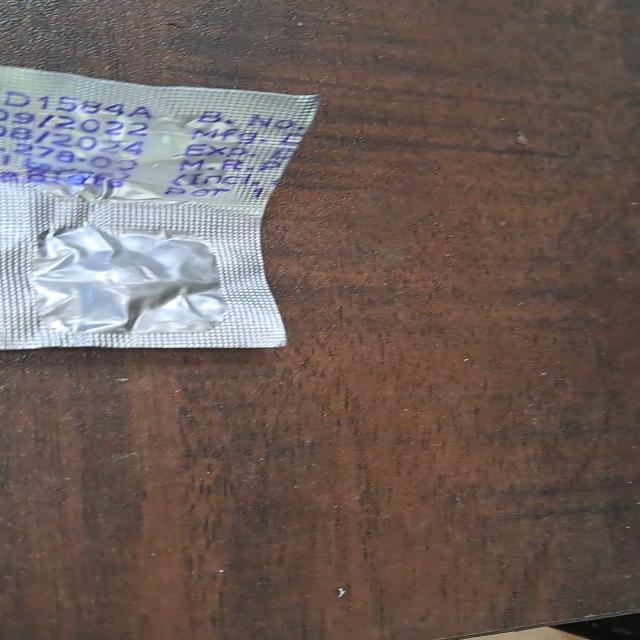Anorganik: (0, 56, 329, 362)
